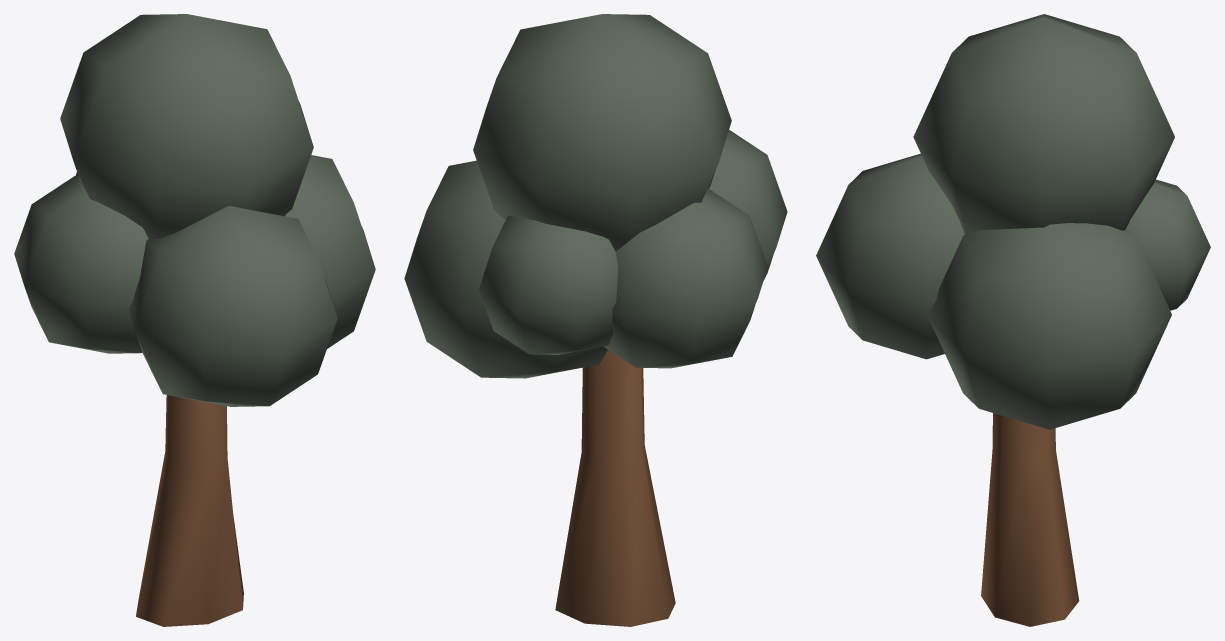
Rendered from SM_arbre.fbx.
3 renders of one model, left to right at view 1: azimuth 30°, elevation 25°; view 2: azimuth 150°, elevation 25°; view 3: azimuth 270°, elevation 25°, orthographic. The views are drawn at different scales.
Visible parts, largest first — view 1: SM_arbre; view 2: SM_arbre; view 3: SM_arbre.
Part boxes in pixels (x1,y1,x2,y2): SM_arbre: (14,14,375,626); SM_arbre: (404,14,787,626); SM_arbre: (816,14,1210,626).
Size of the model in its own units: 276 by 459 by 281.
